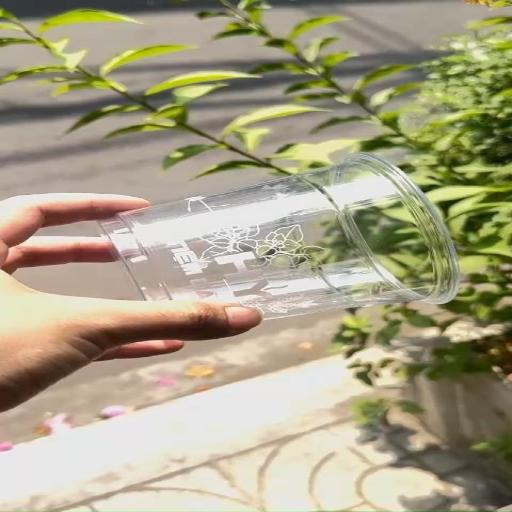ly_giay: (100, 153, 460, 318)
